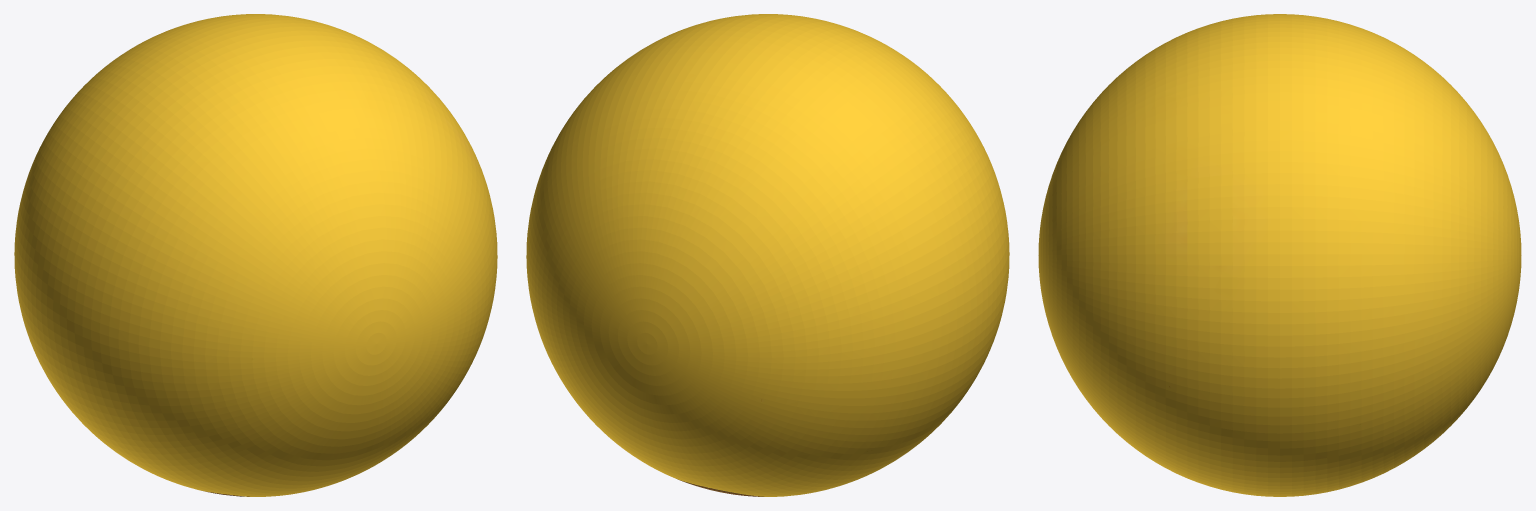
File: wrs_fcsc_emoticon_surprised.dae
3 views of the same model, side by side, from view 1: azimuth 30°, elevation 25°; view 2: azimuth 150°, elevation 25°; view 3: azimuth 270°, elevation 25° (orthographic).
Parts seen in each view (by area): view 1: Sphere; view 2: Sphere; view 3: Sphere.
Boxes of the visible parts, box(x1,y1,x2,y2) form: Sphere: box(14, 14, 497, 496); Sphere: box(526, 14, 1009, 496); Sphere: box(1038, 14, 1521, 496).
Bounding box in the file's own units: 0.2 × 0.2 × 0.2.
Materials: 1 (1 with a texture image).
